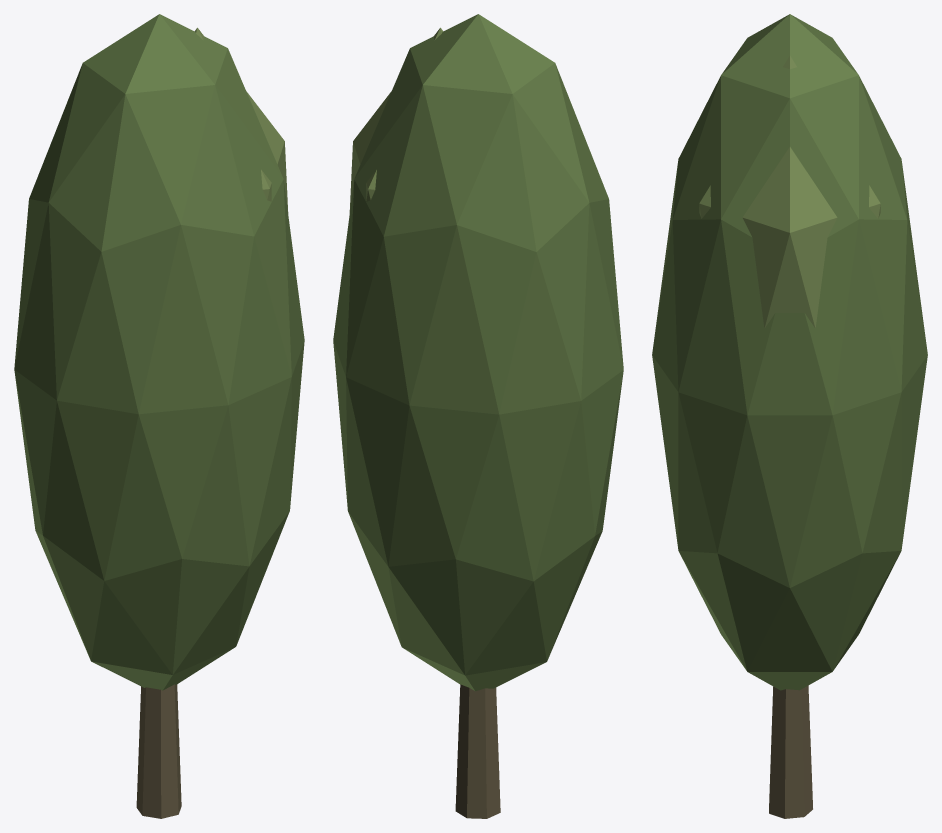
File: poplar.glb
The picture shows the model from 3 angles, left to right: view 1: azimuth 30°, elevation 25°; view 2: azimuth 150°, elevation 25°; view 3: azimuth 270°, elevation 25°; orthographic projection.
Parts seen in each view (by area): view 1: poplar; view 2: poplar; view 3: poplar.
Boxes of the visible parts, <box> form: poplar: <box>14,14,304,818</box>; poplar: <box>333,14,623,818</box>; poplar: <box>652,14,927,818</box>.
Bounding box in the file's own units: 4.59 × 14 × 4.4.
